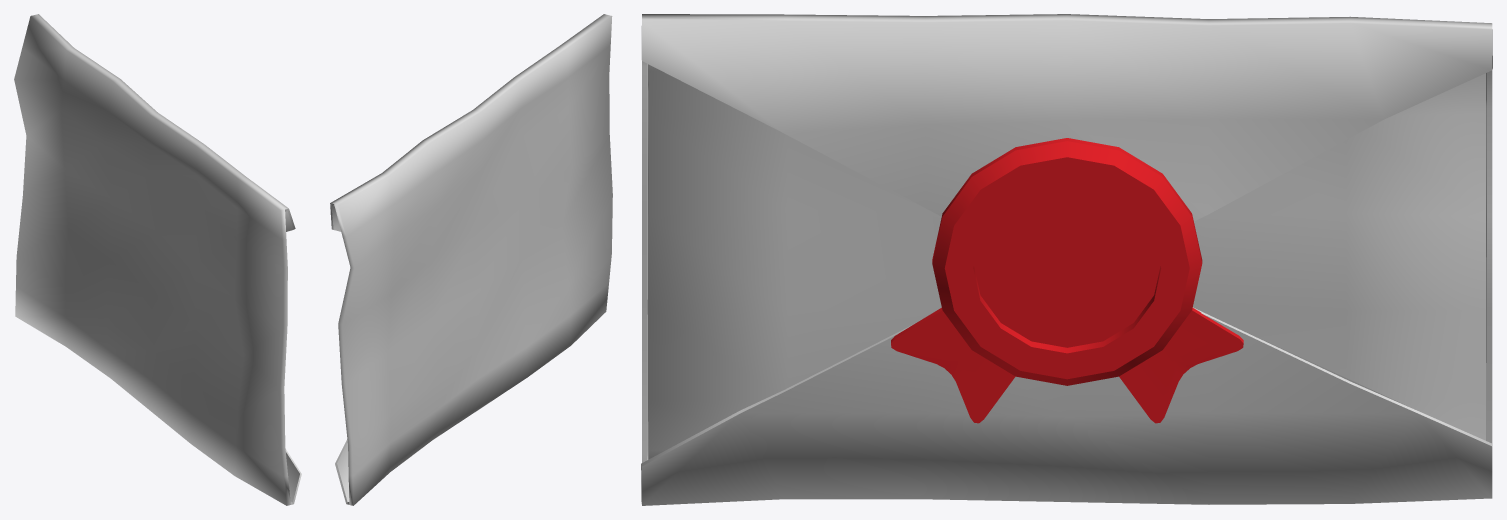
The model's file is brief.glb.
The picture shows the model from 3 angles, left to right: view 1: azimuth 30°, elevation 25°; view 2: azimuth 150°, elevation 25°; view 3: azimuth 270°, elevation 25°; orthographic projection. The views are drawn at different scales.
Visible parts, largest first — view 1: letter; view 2: letter; view 3: letter, mark.
Part boxes in pixels (x1,y1,x2,y2): letter: (14,14,301,505); letter: (330,14,612,505); letter: (641,14,1492,505); mark: (891,138,1243,423).
Bounding box in the file's own units: 0.2476 × 2 × 3.21.
